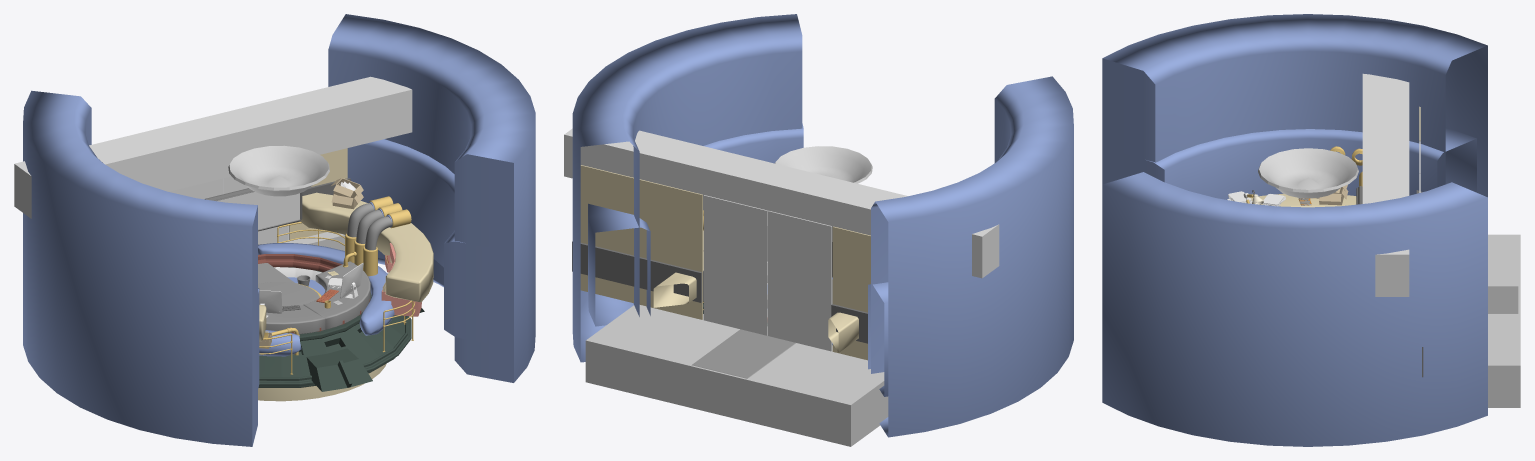
The model's file is scene3room.fbx.
3 views of the same model, side by side, from view 1: azimuth 30°, elevation 25°; view 2: azimuth 150°, elevation 25°; view 3: azimuth 270°, elevation 25° (orthographic). The views are drawn at different scales.
Visible parts, largest first — view 1: pCylinder1357, pCube560; view 2: pCylinder1357; view 3: pCylinder1357.
Part boxes in pixels (x1,y1,x2,y2): pCylinder1357: (14, 14, 535, 446); pCube560: (205, 188, 302, 231); pCylinder1357: (564, 14, 1073, 446); pCylinder1357: (1102, 14, 1520, 446).
Size of the model in its own units: 97.48 by 50.58 by 80.17.
